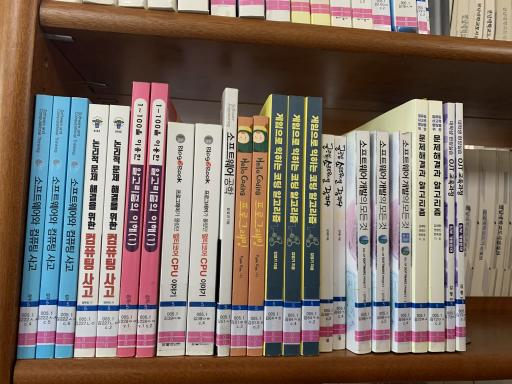book-spine: (16, 95, 54, 359), (35, 96, 70, 359), (117, 81, 150, 358), (135, 82, 168, 357), (157, 122, 195, 356), (74, 103, 109, 357), (54, 97, 88, 358), (185, 123, 222, 355), (96, 104, 130, 356), (265, 93, 288, 355), (283, 95, 305, 356), (230, 117, 254, 355), (217, 87, 238, 357), (302, 96, 323, 355), (247, 115, 269, 355), (413, 99, 429, 352), (429, 100, 444, 352), (397, 131, 413, 352), (319, 134, 335, 352), (356, 131, 371, 354), (376, 130, 390, 352), (332, 136, 346, 349), (456, 103, 465, 352), (447, 103, 455, 351)
